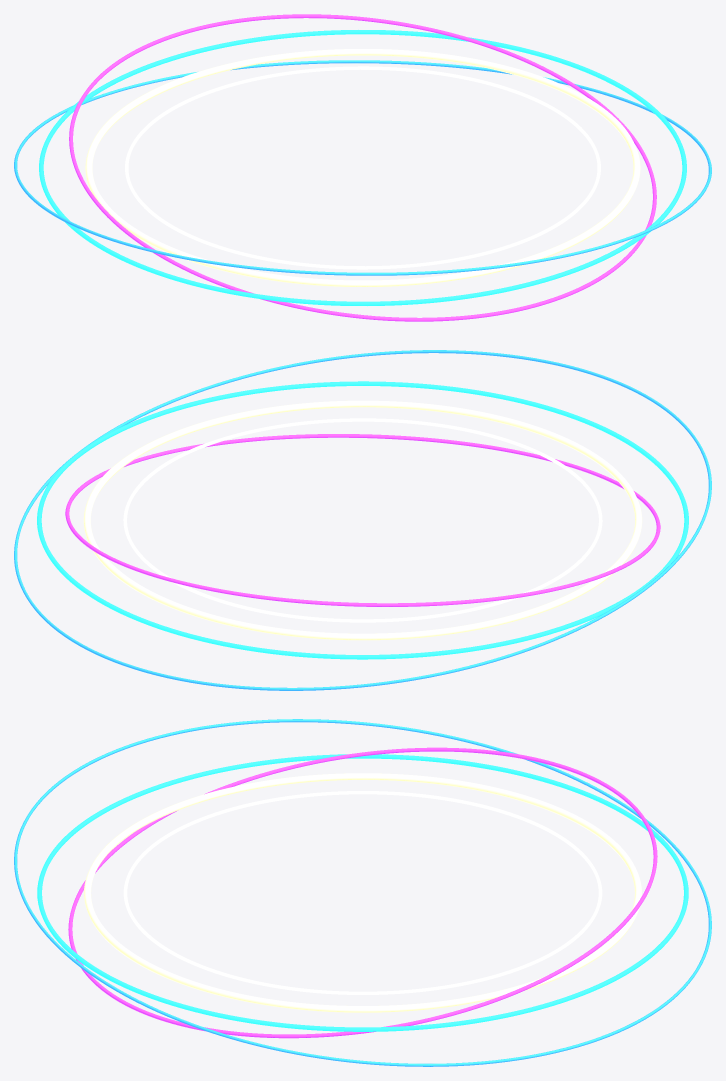
The model's file is gravitational_lensing_ring.glb.
3 renders of one model, top to bottom at view 1: azimuth 30°, elevation 25°; view 2: azimuth 150°, elevation 25°; view 3: azimuth 270°, elevation 25°, orthographic.
Visible parts, largest first — view 1: gravitational_lensing_ring; view 2: gravitational_lensing_ring; view 3: gravitational_lensing_ring.
Boxes of the visible parts, x1,y1,x2,y2 form: gravitational_lensing_ring: (14,14,711,321); gravitational_lensing_ring: (14,350,711,690); gravitational_lensing_ring: (14,719,711,1066).
Bounding box in the file's own units: 3.51 × 0.4594 × 3.5.
